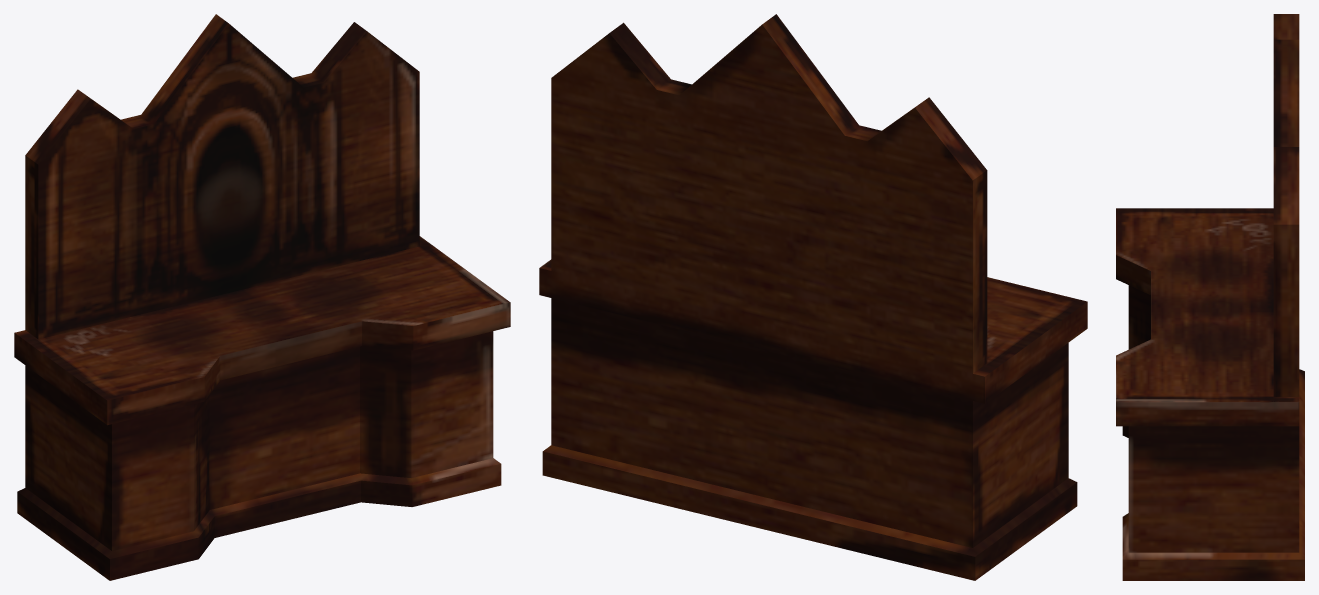
Rendered from chapelaltar1.glb.
3 views of the same model, side by side, from view 1: azimuth 30°, elevation 25°; view 2: azimuth 150°, elevation 25°; view 3: azimuth 270°, elevation 25° (orthographic). The views are drawn at different scales.
Parts seen in each view (by area): view 1: altarzao_geo; view 2: altarzao_geo; view 3: altarzao_geo.
Boxes of the visible parts, box(x1,y1,x2,y2) form: altarzao_geo: box(14, 14, 510, 580); altarzao_geo: box(539, 14, 1087, 580); altarzao_geo: box(1116, 14, 1304, 580).
Bounding box in the file's own units: 3.13 × 3.37 × 1.29.
1 material, 1 textured.
